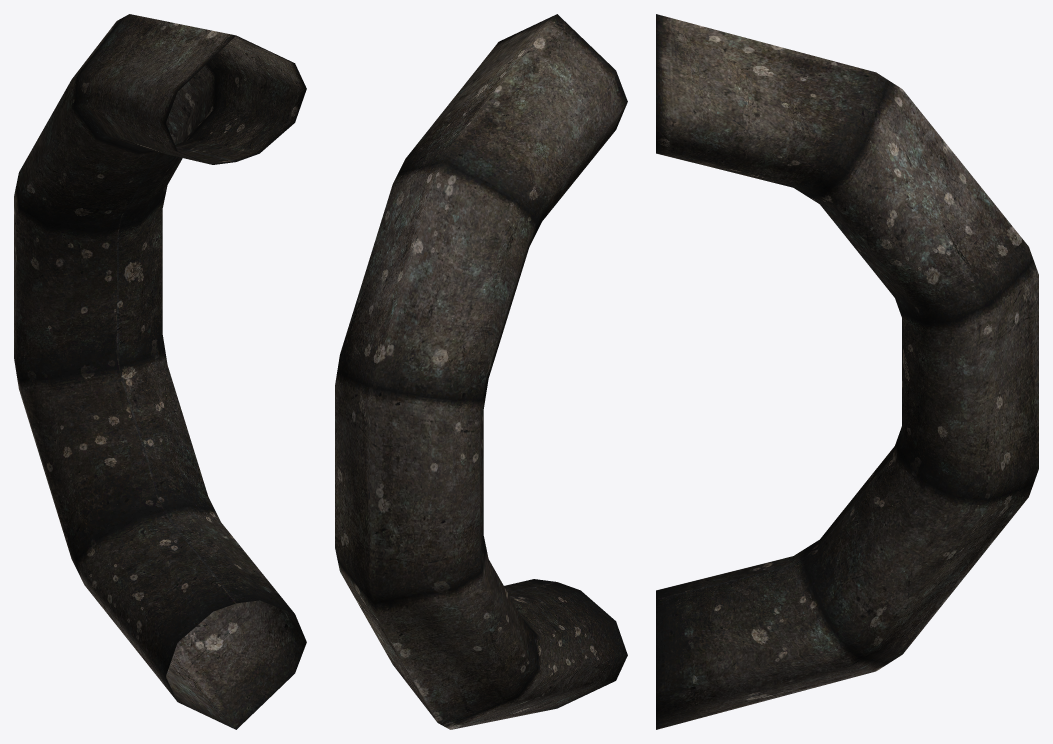
The model's file is large_180_down.dae.
3 views of the same model, side by side, from view 1: azimuth 30°, elevation 25°; view 2: azimuth 150°, elevation 25°; view 3: azimuth 270°, elevation 25° (orthographic). The views are drawn at different scales.
Visible parts, largest first — view 1: tentacle_large_180_down; view 2: tentacle_large_180_down; view 3: tentacle_large_180_down.
Part boxes in pixels (bbox=[...]): tentacle_large_180_down: bbox=[14, 14, 306, 729]; tentacle_large_180_down: bbox=[335, 14, 627, 729]; tentacle_large_180_down: bbox=[656, 14, 1038, 729].
Size of the model in its own units: 0.52 by 2.45 by 1.19.
